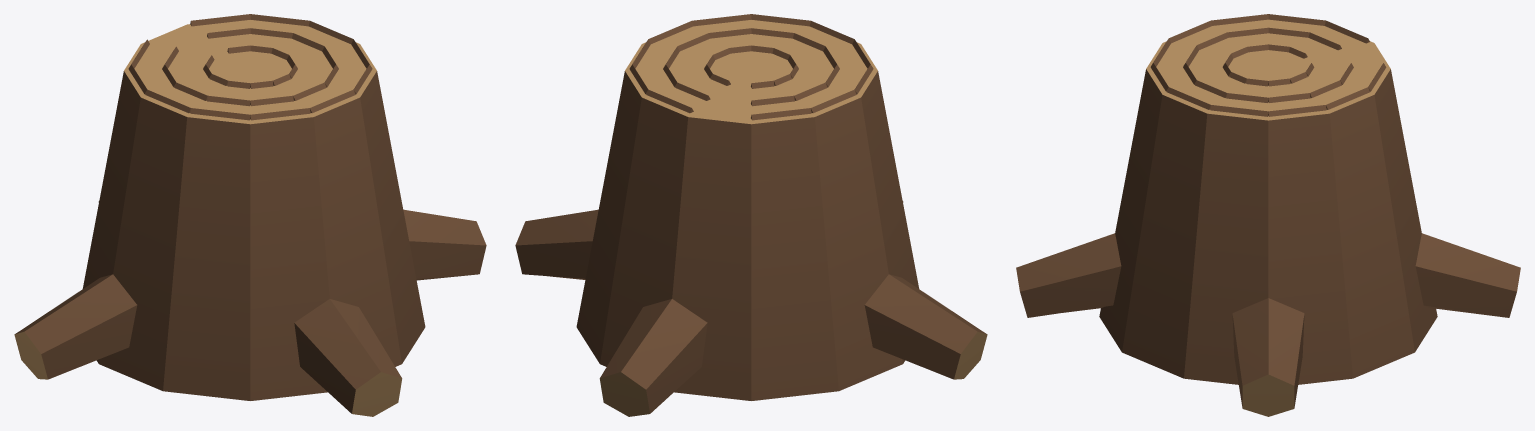
File: stump_c.glb
3 renders of one model, left to right at view 1: azimuth 30°, elevation 25°; view 2: azimuth 150°, elevation 25°; view 3: azimuth 270°, elevation 25°, orthographic. The views are drawn at different scales.
Visible parts, largest first — view 1: stump_c; view 2: stump_c; view 3: stump_c.
Boxes of the visible parts, <box> form: stump_c: <box>14,14,486,416</box>; stump_c: <box>515,14,987,416</box>; stump_c: <box>1016,14,1520,416</box>.
Bounding box in the file's own units: 1.4 × 0.779 × 1.4.
